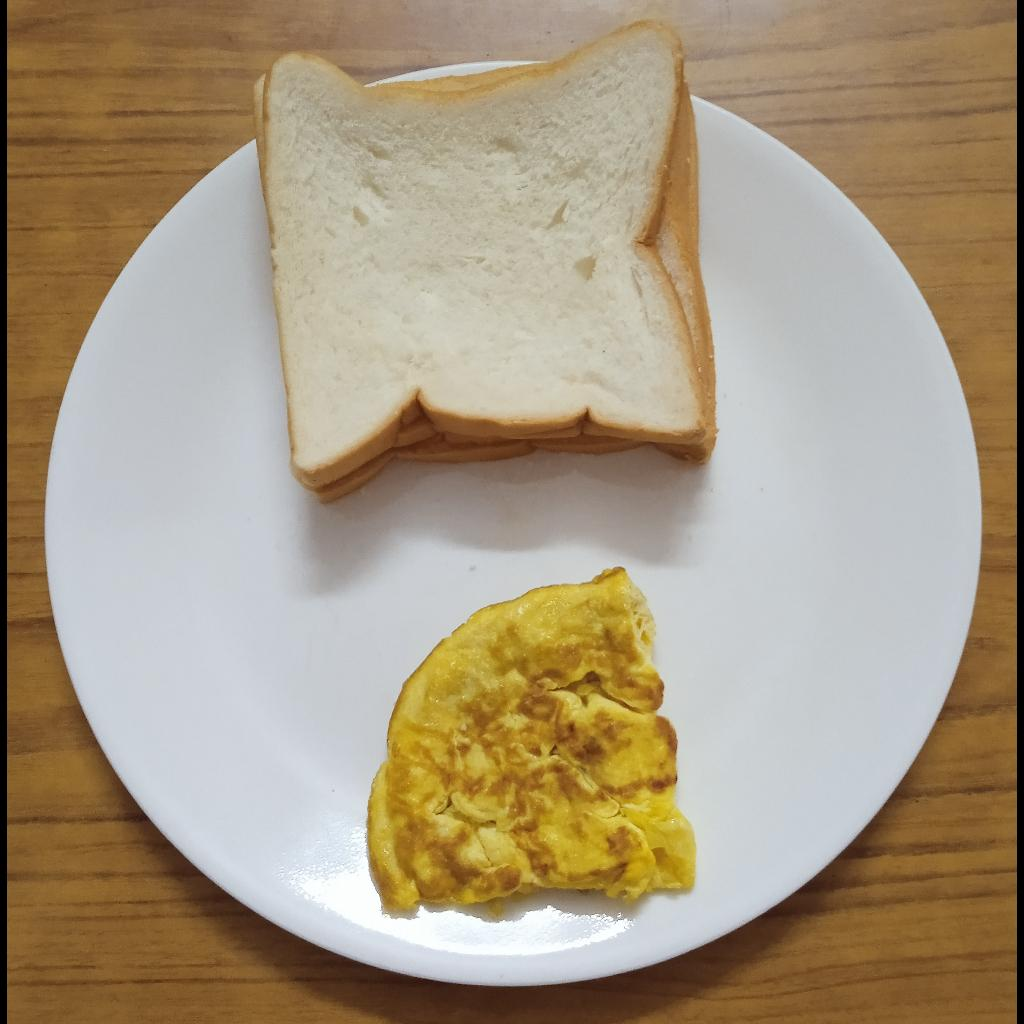bread: (251, 21, 717, 504)
egg-poached: (367, 568, 698, 917)
